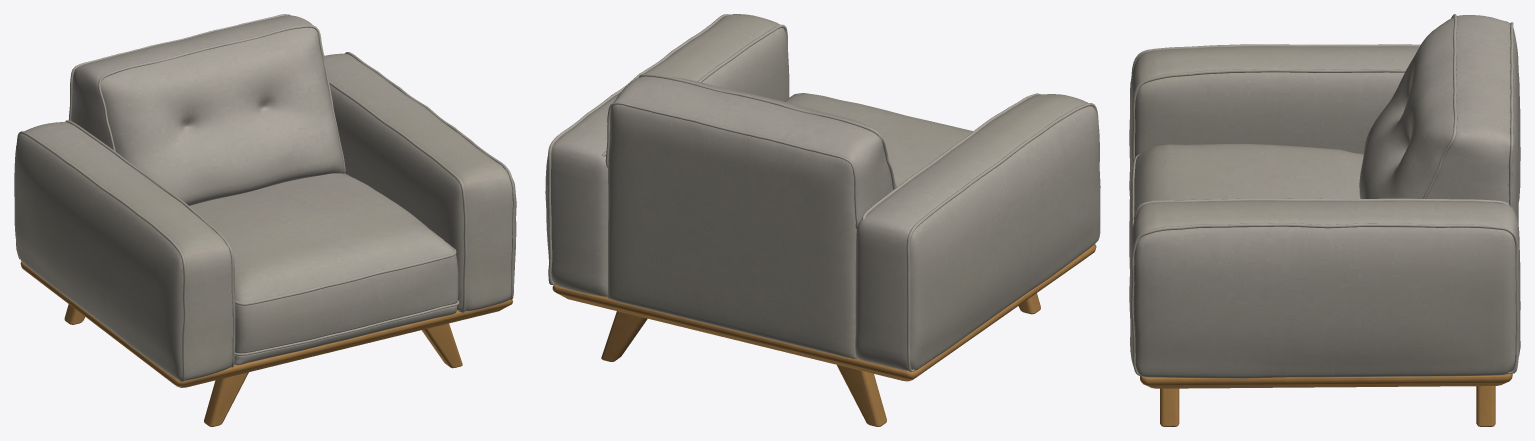
The model's file is abo-B082QCSFK7.glb.
3 views of the same model, side by side, from view 1: azimuth 30°, elevation 25°; view 2: azimuth 150°, elevation 25°; view 3: azimuth 270°, elevation 25° (orthographic). The views are drawn at different scales.
Size of the model in its own units: 1.12 by 0.779 by 0.953.
1 material, 1 textured.
